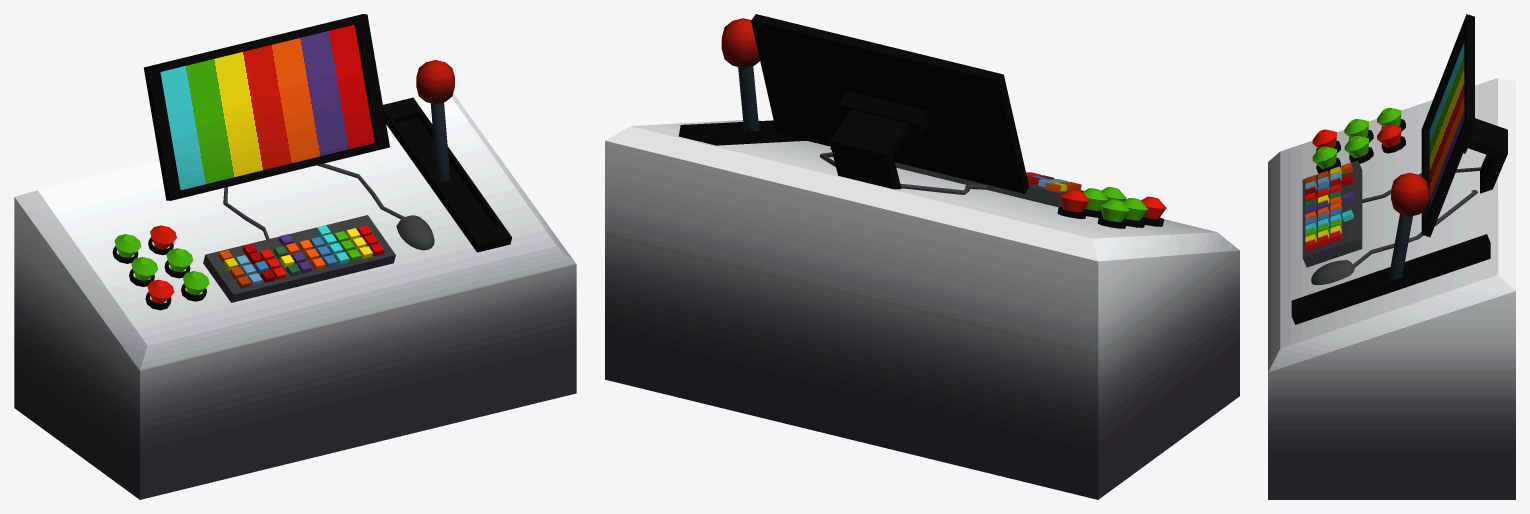
The model's file is SM_ControlTable.fbx.
The picture shows the model from 3 angles, left to right: view 1: azimuth 30°, elevation 25°; view 2: azimuth 150°, elevation 25°; view 3: azimuth 270°, elevation 25°; orthographic projection. The views are drawn at different scales.
Parts seen in each view (by area): view 1: SM_ControlTable; view 2: SM_ControlTable; view 3: SM_ControlTable.
Boxes of the visible parts, <box> form: SM_ControlTable: <box>14,14,576,499</box>; SM_ControlTable: <box>605,14,1239,499</box>; SM_ControlTable: <box>1268,14,1515,499</box>.
Bounding box in the file's own units: 128 × 92.87 × 63.62.
